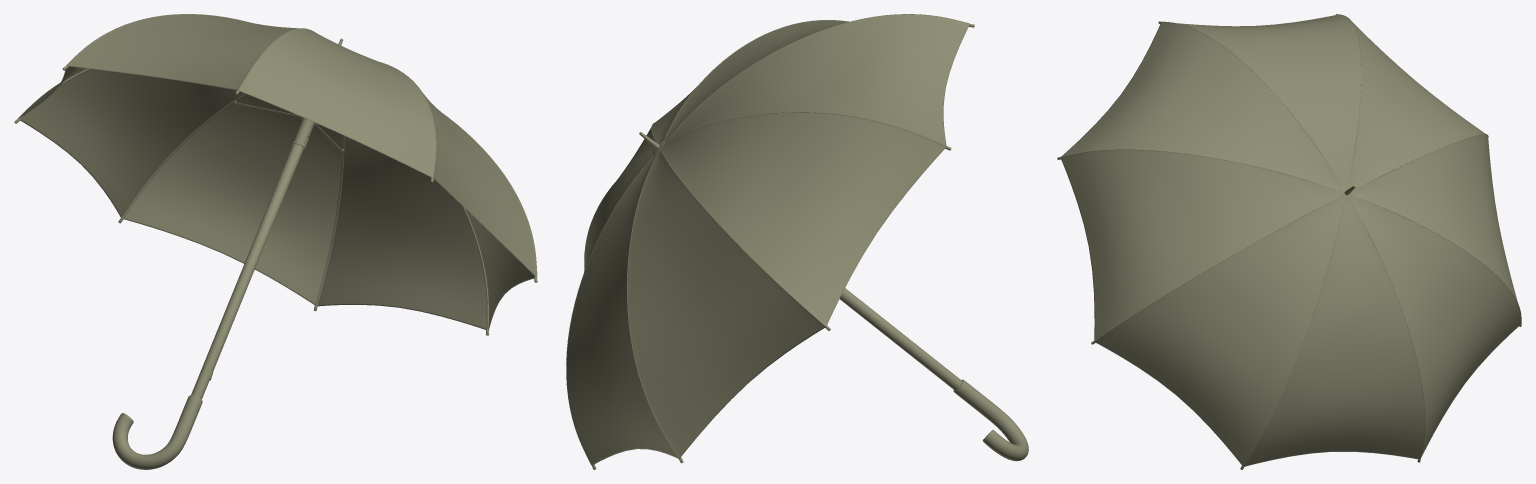
3 views of the same model, side by side, from view 1: azimuth 30°, elevation 25°; view 2: azimuth 150°, elevation 25°; view 3: azimuth 270°, elevation 25° (orthographic). The views are drawn at different scales.
Parts seen in each view (by area): view 1: Sphere.004, Cylinder, Cylinder.001, Sphere.002; view 2: Sphere.004, Cylinder.001, Cylinder; view 3: Sphere.004.
Boxes of the visible parts, <box> form: Sphere.004: <box>18,14,537,329</box>; Cylinder: <box>191,137,307,399</box>; Cylinder.001: <box>112,395,202,469</box>; Sphere.002: <box>19,68,488,329</box>; Sphere.004: <box>566,14,969,465</box>; Cylinder.001: <box>953,379,1028,461</box>; Cylinder: <box>839,288,962,390</box>; Sphere.004: <box>1060,14,1521,466</box>.
Size of the model in its own units: 2.94 by 2.81 by 3.33.
